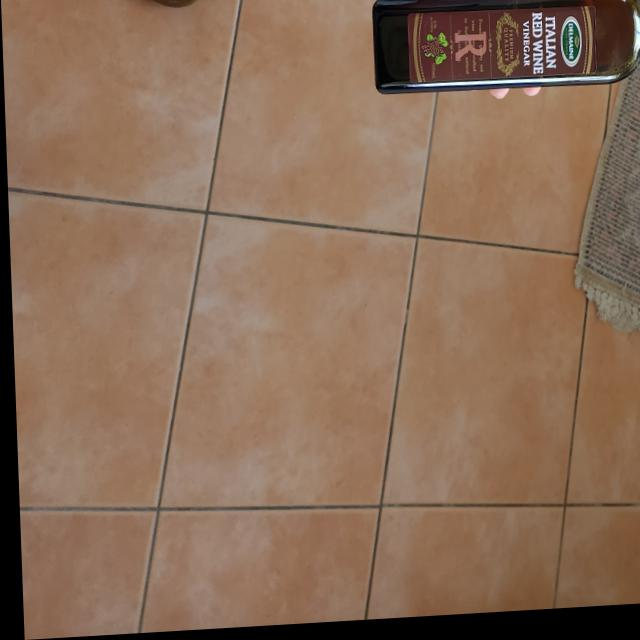red wine vinegar: (369, 0, 640, 102)
